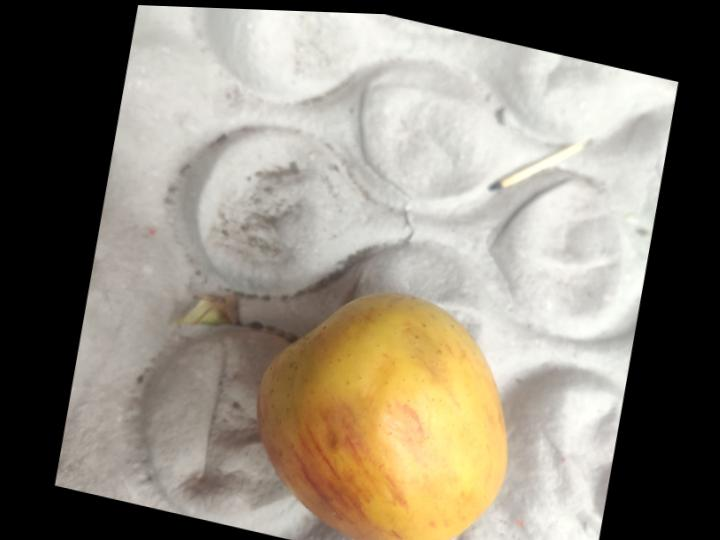apple: (257, 293, 506, 540)
bruise_discoloration: (286, 353, 402, 521), (400, 325, 455, 394)
